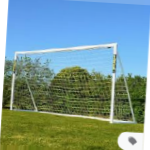goals: (10, 42, 138, 126)
